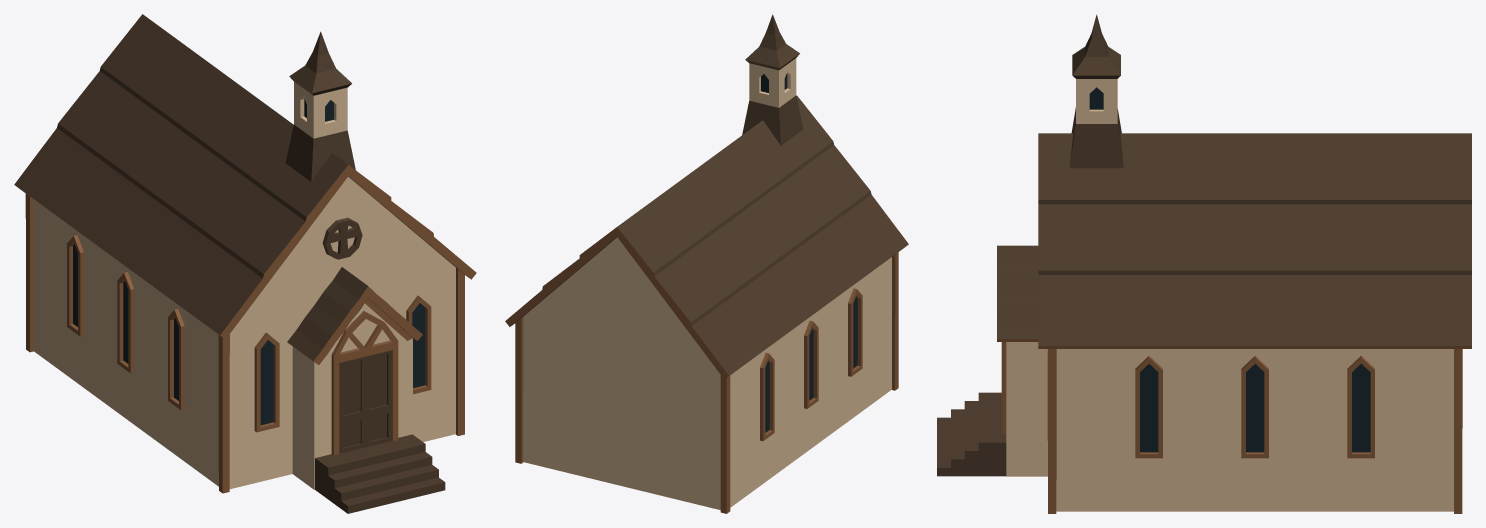
The model's file is church-western.glb.
3 renders of one model, left to right at view 1: azimuth 30°, elevation 25°; view 2: azimuth 150°, elevation 25°; view 3: azimuth 270°, elevation 25°, orthographic. The views are drawn at different scales.
Visible parts, largest first — view 1: church-western; view 2: church-western; view 3: church-western.
Part boxes in pixels (left/top/right/bottom): church-western: left=14, top=14, right=476, bottom=513; church-western: left=505, top=14, right=908, bottom=513; church-western: left=937, top=14, right=1471, bottom=513.
Size of the model in its own units: 6.77 by 10.47 by 11.6.
Materials: 1 (1 with a texture image).
